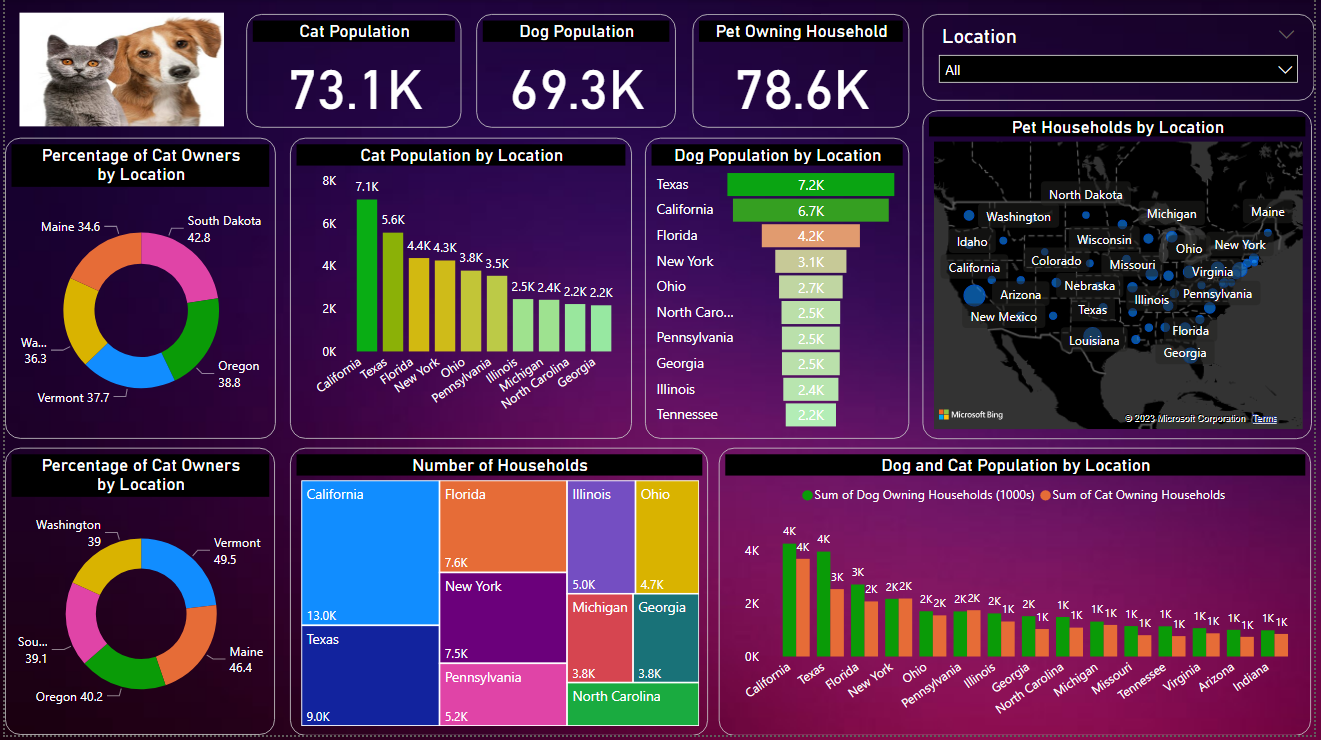

This screenshot's page, from the dashboard's own definition file:
{"tool":"powerbi","page":{"name":"Page 1","canvas":[1280,720],"ordinal":0},"visuals":[{"type":"treemap","title":"Number of Households","fields":{"Group":["States.Location"],"Values":["Sum(States.Number of Households (in 1000))"]},"box":[278.7,438.7,409,281.3],"z":0},{"type":"columnChart","title":"Cat Population by Location","fields":{"Category":["States.Location"],"Y":["Sum(States.Cat Population)"]},"box":[278.7,135.5,334.2,294.2],"z":1000},{"type":"funnel","title":"Dog Population by Location","fields":{"Category":["States.Location"],"Y":["Sum(States.Dog Population (in 1000))"]},"box":[625.8,135.5,258.1,294.2],"z":2000},{"type":"clusteredColumnChart","title":"Dog and Cat Population by Location","fields":{"Category":["States.Location"],"Y":["Sum(States.Dog Owning Households (1000s))","Sum(States.Cat Owning Households)"]},"box":[698.1,438.7,579.4,281.3],"z":3000},{"type":"donutChart","title":"Percentage of Cat Owners by Location","fields":{"Y":["Sum(States.Percentage of Cat Owners)"],"Category":["States.Location"]},"box":[0,438.8,264,281.2],"z":4000},{"type":"donutChart","title":"Percentage of Cat Owners by Location","fields":{"Category":["States.Location"],"Y":["Sum(States.Percentage of Dog Owners)"]},"box":[0,135.5,264.5,294.2],"z":5000},{"type":"map","title":"Pet Households by Location","fields":{"Category":["States.Location"],"Size":["Sum(States.Number of Pet Households (in 1000))"]},"box":[896.8,108.4,380.6,321.3],"z":6000},{"type":"slicer","fields":{"Values":["States.Location"]},"box":[896.8,14.2,383.2,85.2],"z":7000},{"type":"card","title":"Cat Population","fields":{"Values":["Sum(States.Cat Population)"]},"box":[236.1,14.2,210.3,111],"z":8000},{"type":"card","title":"Dog Population","fields":{"Values":["Sum(States.Dog Population (in 1000))"]},"box":[460.6,14.2,194.8,111],"z":9000},{"type":"card","title":"Pet Owning Household","fields":{"Values":["Sum(States.cats and dogs owning household)"]},"box":[672.3,14.2,211.6,111],"z":10000},{"type":"image","box":[9,9,210.3,121.3],"z":11000}]}

Visuals, with their boxes in screenshot pixels (x1, y1, x2, y2), scaled from the page's 1280x720 canvas onto the 1321x740 screenshot:
"Number of Households" treemap: box=[288, 451, 710, 739]
"Cat Population by Location" columnChart: box=[288, 139, 633, 442]
"Dog Population by Location" funnel: box=[646, 139, 912, 442]
"Dog and Cat Population by Location" clusteredColumnChart: box=[720, 451, 1318, 739]
"Percentage of Cat Owners by Location" donutChart: box=[0, 451, 272, 739]
"Percentage of Cat Owners by Location" donutChart: box=[0, 139, 273, 442]
"Pet Households by Location" map: box=[926, 111, 1318, 442]
slicer - States.Location: box=[926, 15, 1320, 102]
"Cat Population" card: box=[244, 15, 461, 129]
"Dog Population" card: box=[475, 15, 676, 129]
"Pet Owning Household" card: box=[694, 15, 912, 129]
image: box=[9, 9, 226, 134]
